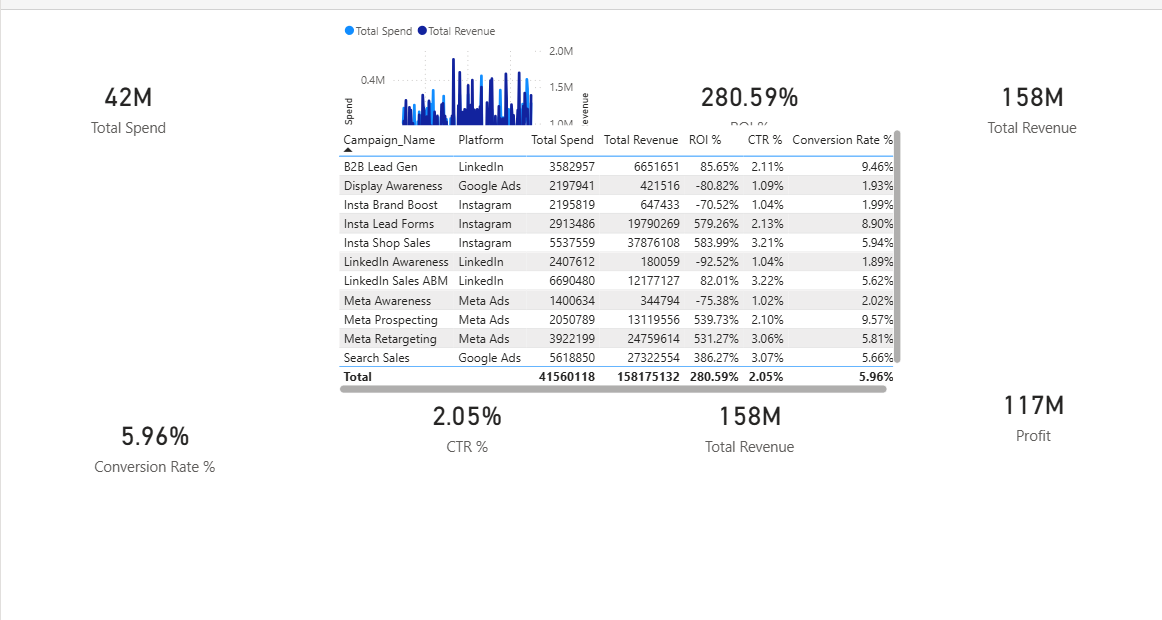

Layout of this report page (visuals, bound fields, positions):
{"tool":"powerbi","page":{"name":"Page 1","canvas":[1280,720],"ordinal":0},"visuals":[{"type":"card","fields":{"Values":["marketing_campaign_data_1500rows.Total Spend"]},"box":[0,9.6,279.9,279.9],"z":0},{"type":"card","fields":{"Values":["marketing_campaign_data_1500rows.Total Revenue"]},"box":[992.5,10,280,280],"z":1000},{"type":"card","fields":{"Values":["marketing_campaign_data_1500rows.Profit"]},"box":[993,347,280,280],"z":2000},{"type":"card","fields":{"Values":["marketing_campaign_data_1500rows.ROI %"]},"box":[682,10,280,280],"z":3000},{"type":"card","fields":{"Values":["marketing_campaign_data_1500rows.CTR %"]},"box":[372,360,280,280],"z":4000},{"type":"card","fields":{"Values":["marketing_campaign_data_1500rows.Conversion Rate %"]},"box":[28.8,381.5,279.9,279.9],"z":5000},{"type":"card","fields":{"Values":["marketing_campaign_data_1500rows.Total Revenue"]},"box":[682,360,280,280],"z":6000},{"type":"lineChart","fields":{"Y":["marketing_campaign_data_1500rows.Total Spend"],"Y2":["marketing_campaign_data_1500rows.Total Revenue"],"Category":["marketing_campaign_data_1500rows.Date"]},"box":[372,10,280,280],"z":7000},{"type":"tableEx","fields":{"Values":["marketing_campaign_data_1500rows.Campaign_Name","marketing_campaign_data_1500rows.Platform","marketing_campaign_data_1500rows.Total Spend","marketing_campaign_data_1500rows.Total Revenue","marketing_campaign_data_1500rows.ROI %","marketing_campaign_data_1500rows.CTR %","marketing_campaign_data_1500rows.Conversion Rate %"]},"box":[365,171.5,628.5,299.1],"z":8000}]}

Visuals, with their boxes on the page's 1280x720 design canvas (x1, y1, x2, y2). These are canvas units, not pixel positions in the 1162x620 screenshot, which may show the page scaled, cropped or inside an application window:
card - marketing_campaign_data_1500rows.Total Spend: pyautogui.locateOnScreen(0, 10, 280, 290)
card - marketing_campaign_data_1500rows.Total Revenue: pyautogui.locateOnScreen(992, 10, 1272, 290)
card - marketing_campaign_data_1500rows.Profit: pyautogui.locateOnScreen(993, 347, 1273, 627)
card - marketing_campaign_data_1500rows.ROI %: pyautogui.locateOnScreen(682, 10, 962, 290)
card - marketing_campaign_data_1500rows.CTR %: pyautogui.locateOnScreen(372, 360, 652, 640)
card - marketing_campaign_data_1500rows.Conversion Rate %: pyautogui.locateOnScreen(29, 382, 309, 661)
card - marketing_campaign_data_1500rows.Total Revenue: pyautogui.locateOnScreen(682, 360, 962, 640)
lineChart - marketing_campaign_data_1500rows.Total Spend x marketing_campaign_data_1500rows.Total Revenue: pyautogui.locateOnScreen(372, 10, 652, 290)
tableEx - marketing_campaign_data_1500rows.Campaign_Name x marketing_campaign_data_1500rows.Platform: pyautogui.locateOnScreen(365, 172, 994, 471)
